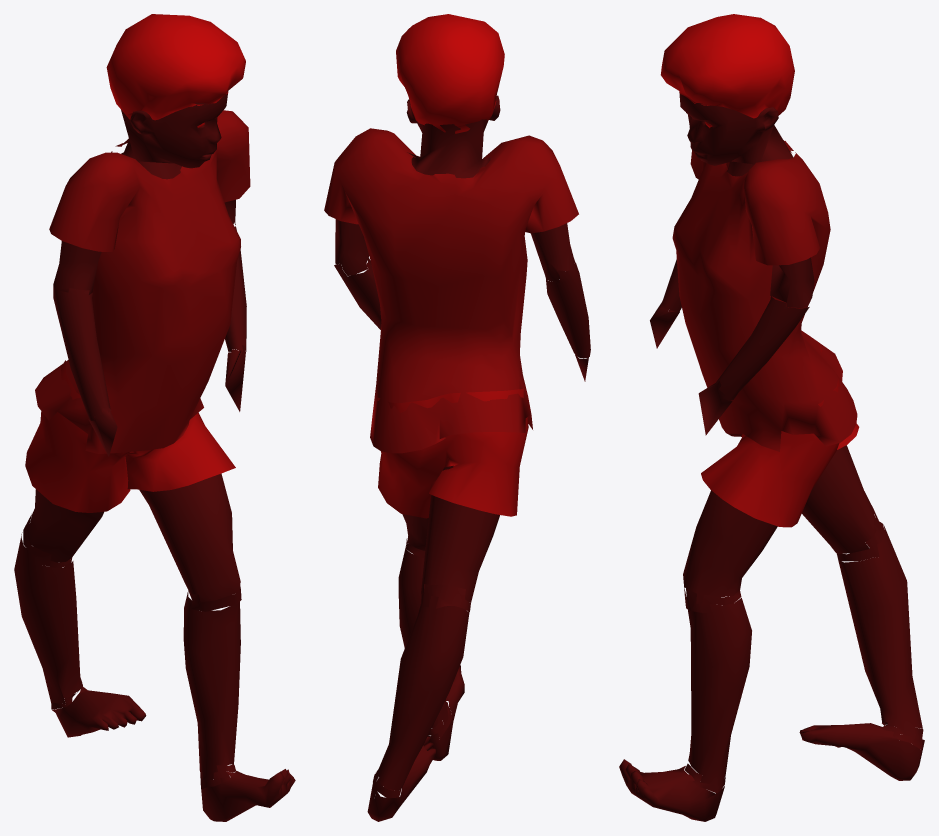
File: crowd_kidWait.glb
3 views of the same model, side by side, from view 1: azimuth 30°, elevation 25°; view 2: azimuth 150°, elevation 25°; view 3: azimuth 270°, elevation 25° (orthographic). The views are drawn at different scales.
Parts seen in each view (by area): view 1: kidWait; view 2: kidWait; view 3: kidWait.
Part boxes in pixels (x1,y1,x2,y2): kidWait: (14, 14, 295, 821); kidWait: (324, 14, 590, 821); kidWait: (619, 14, 924, 821).
Size of the model in its own units: 0.4231 by 1.42 by 0.4987.
